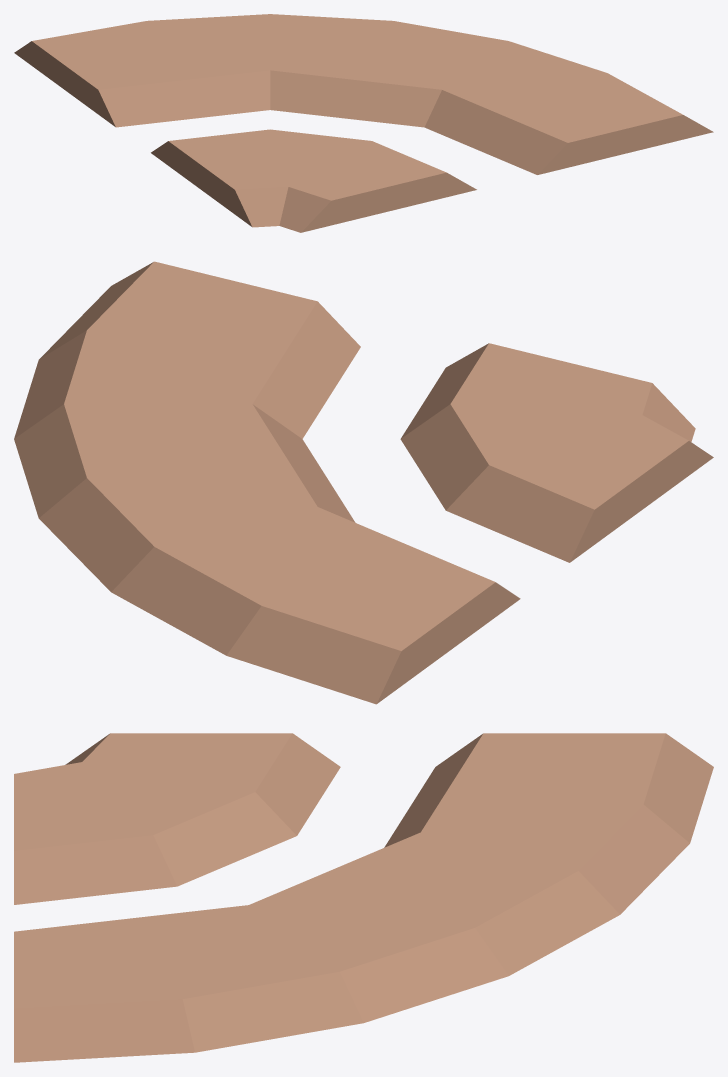
File: crops_dirtDoubleRowCorner.glb
3 views of the same model, one above another, from view 1: azimuth 30°, elevation 25°; view 2: azimuth 150°, elevation 25°; view 3: azimuth 270°, elevation 25° (orthographic). The views are drawn at different scales.
Parts seen in each view (by area): view 1: crops_dirtDoubleRowCorner; view 2: crops_dirtDoubleRowCorner; view 3: crops_dirtDoubleRowCorner.
Boxes of the visible parts, <box> form: crops_dirtDoubleRowCorner: <box>14,14,713,232</box>; crops_dirtDoubleRowCorner: <box>14,261,713,704</box>; crops_dirtDoubleRowCorner: <box>14,733,713,1062</box>.
Bounding box in the file's own units: 0.938 × 0.05 × 0.938.
